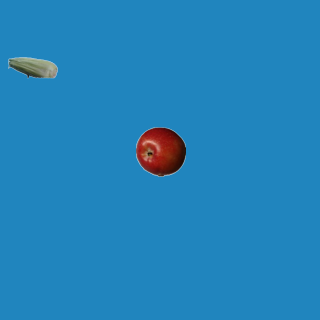Apple Braeburn: (135, 126, 185, 176)
Corn Husk: (7, 42, 57, 92)
